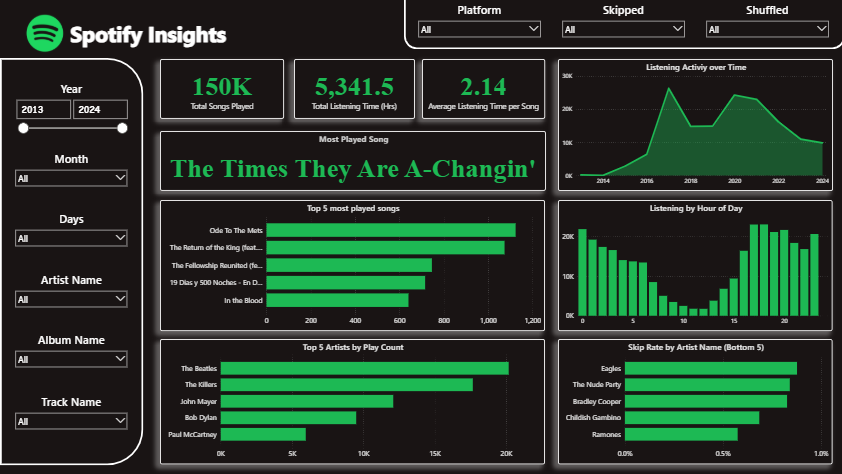

The page's visual inventory and layout, read from the dashboard file:
{"tool":"powerbi","page":{"name":"Spotify Insights","canvas":[1920,1080],"ordinal":0},"visuals":[{"type":"image","box":[20.9,0,162.8,160.5],"z":0},{"type":"textbox","box":[153.5,25.6,383.7,111.6],"z":1000},{"type":"shape","box":[0,137.2,325.6,925.6],"z":2000},{"type":"slicer","title":"Year","fields":{"Values":["spotify_history.Year"]},"box":[25.6,188.4,274.4,130.2],"z":3000},{"type":"slicer","title":"Month","fields":{"Values":["spotify_history.Month Name"]},"box":[25.6,348.8,274.4,111.6],"z":4000},{"type":"slicer","title":"Days","fields":{"Values":["spotify_history.Week Day"]},"box":[25.6,483.7,274.4,111.6],"z":5000},{"type":"slicer","title":"Artist Name","fields":{"Values":["spotify_history.artist_name"]},"box":[25.6,623.3,274.4,111.6],"z":6000},{"type":"slicer","title":"Album Name","fields":{"Values":["spotify_history.album_name"]},"box":[25.6,758.1,274.4,111.6],"z":7000},{"type":"slicer","title":"Track Name","fields":{"Values":["spotify_history.album_name"]},"box":[25.6,900,274.4,111.6],"z":8000},{"type":"shape","box":[918.6,0,1002.3,116.3],"z":9000},{"type":"slicer","title":"Platform","fields":{"Values":["spotify_history.platform"]},"box":[941.9,9.3,297.7,95.3],"z":10000},{"type":"slicer","title":"Skipped","fields":{"Values":["spotify_history.skipped"]},"box":[1267.4,9.3,297.7,95.3],"z":11000},{"type":"slicer","title":"Shuffled","fields":{"Values":["spotify_history.shuffle"]},"box":[1595.3,9.3,297.7,95.3],"z":12000},{"type":"card","fields":{"Values":["_measures.Total Songs Played"]},"box":[362.8,138.6,282.2,136.1],"z":13000},{"type":"card","fields":{"Values":["_measures.Total Listening Time (Hrs)"]},"box":[667.7,138.6,274.6,136.1],"z":14000},{"type":"card","fields":{"Values":["_measures.Average Listening Time per Song"]},"box":[960,138.6,279.7,136.1],"z":15000},{"type":"card","title":"Most Played Song","fields":{"Values":["Min(spotify_history.album_name)"]},"box":[362.8,302.4,876.9,136.1],"z":16000},{"type":"lineChart","title":"Listening Activiy over Time","fields":{"Y":["CountNonNull(spotify_history.track_name)"],"Category":["spotify_history.Timespan.Variation.Date Hierarchy.Year","spotify_history.Timespan.Variation.Date Hierarchy.Quarter","spotify_history.Timespan.Variation.Date Hierarchy.Month","spotify_history.Timespan.Variation.Date Hierarchy.Day"]},"box":[1267.4,138.6,624.9,299.8],"z":17000},{"type":"barChart","title":"Top 5 most played songs","fields":{"Y":["Sum(spotify_history.Minutes_played)"],"Category":["spotify_history.track_name"]},"box":[362.9,460.1,874.8,298.1],"z":18000},{"type":"barChart","title":"Top 5 Artists by Play Count","fields":{"Y":["Sum(spotify_history.Minutes_played)"],"Category":["spotify_history.artist_name"]},"box":[362.9,775.4,874.8,285.1],"z":19000},{"type":"columnChart","title":"Listening by Hour of Day","fields":{"Y":["Sum(spotify_history.Minutes_played)"],"Category":["spotify_history.Hours"]},"box":[1267.9,460.1,624.2,298.1],"z":20000},{"type":"barChart","title":"Lowest Skip Rate by Artist Name (Bottom 5)","fields":{"Y":["_measures.Skipped Percentage"],"Category":["spotify_history.artist_name"]},"box":[1268,775,624,285],"z":21000}]}

Visuals, with their boxes in screenshot pixels (x1, y1, x2, y2), scaled from the page's 1920x1080 canvas onto the 842x474 screenshot:
image: (9, 0, 81, 70)
textbox: (67, 11, 236, 60)
shape: (0, 60, 143, 466)
"Year" slicer: (11, 83, 132, 140)
"Month" slicer: (11, 153, 132, 202)
"Days" slicer: (11, 212, 132, 261)
"Artist Name" slicer: (11, 274, 132, 323)
"Album Name" slicer: (11, 333, 132, 382)
"Track Name" slicer: (11, 395, 132, 444)
shape: (403, 0, 841, 51)
"Platform" slicer: (413, 4, 544, 46)
"Skipped" slicer: (556, 4, 686, 46)
"Shuffled" slicer: (700, 4, 830, 46)
card - _measures.Total Songs Played: (159, 61, 283, 121)
card - _measures.Total Listening Time (Hrs): (293, 61, 413, 121)
card - _measures.Average Listening Time per Song: (421, 61, 544, 121)
"Most Played Song" card: (159, 133, 544, 192)
"Listening Activiy over Time" lineChart: (556, 61, 830, 192)
"Top 5 most played songs" barChart: (159, 202, 543, 333)
"Top 5 Artists by Play Count" barChart: (159, 340, 543, 465)
"Listening by Hour of Day" columnChart: (556, 202, 830, 333)
"Lowest Skip Rate by Artist Name (Bottom 5)" barChart: (556, 340, 830, 465)
